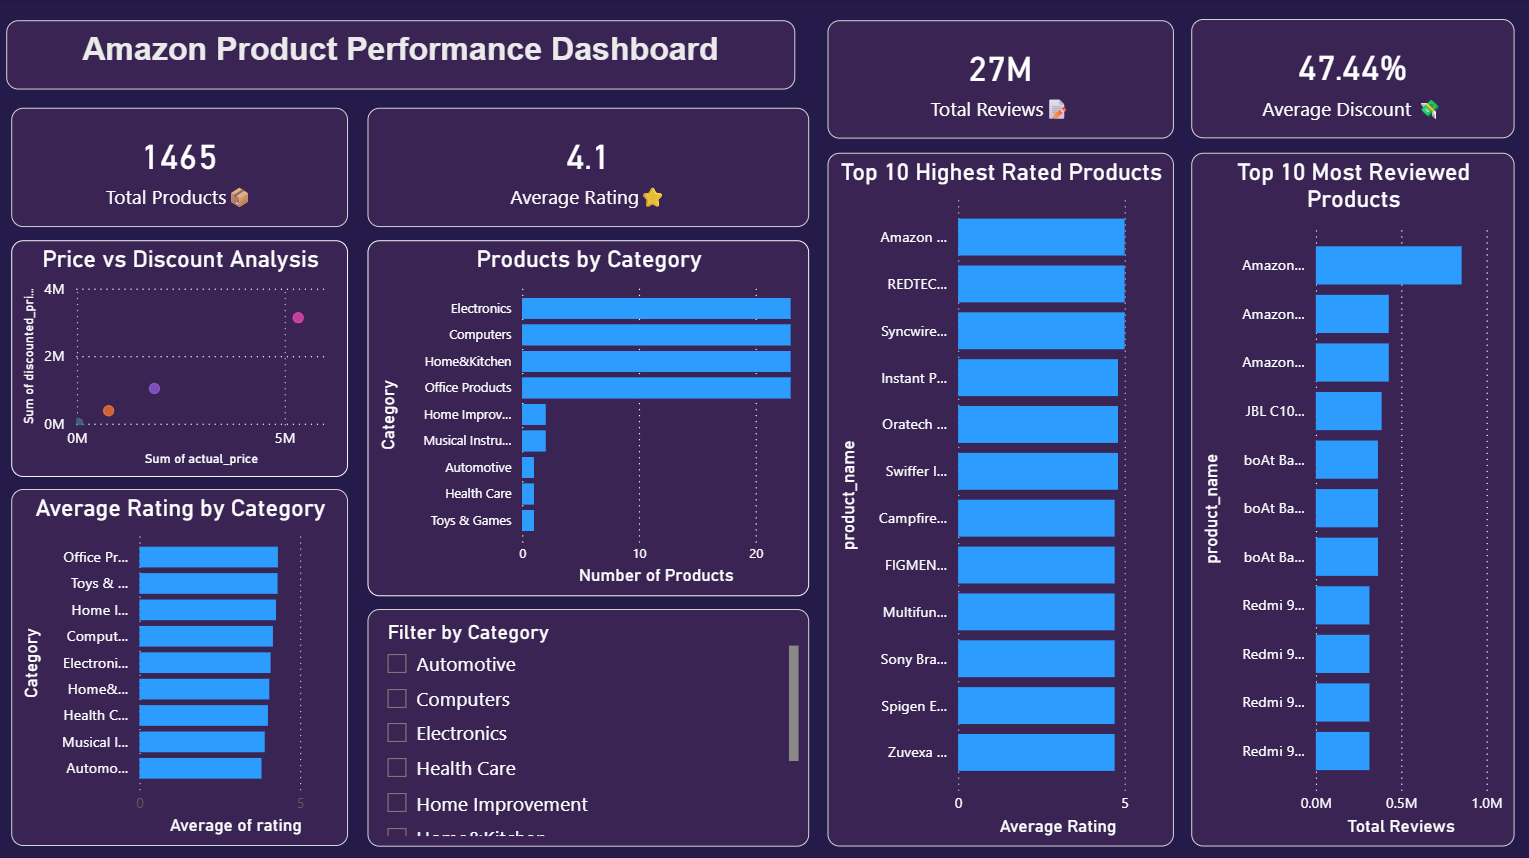

This screenshot's page, from the dashboard's own definition file:
{"tool":"powerbi","page":{"name":"Page 1","canvas":[1280,720],"ordinal":0},"visuals":[{"type":"card","fields":{"Values":["amazon_utf8 csv.Total Products"]},"box":[13.5,90.3,280,99.4],"z":0},{"type":"card","fields":{"Values":["amazon_utf8 csv.Total Reviews"]},"box":[692.2,18.1,287.9,98.2],"z":1000},{"type":"card","fields":{"Values":["amazon_utf8 csv.Average Rating"]},"box":[309.4,90.3,367,99.4],"z":2000},{"type":"card","fields":{"Values":["amazon_utf8 csv.Average Discount"]},"box":[994.8,16.9,268.7,99.4],"z":3000},{"type":"clusteredBarChart","title":"Products by Category","fields":{"Y":["CountNonNull(amazon_utf8 csv.product_id)"],"Category":["amazon_utf8 csv.Category_Display"]},"box":[309.4,201,367,295.8],"z":4000},{"type":"barChart","title":"Top 10 Highest Rated Products","fields":{"Category":["amazon_utf8 csv.product_name"],"Y":["amazon_utf8 csv.Average Rating"]},"box":[692.2,127.6,287.9,577],"z":5000},{"type":"barChart","title":"Top 10 Most Reviewed Products","fields":{"Category":["amazon_utf8 csv.product_name"],"Y":["Sum(amazon_utf8 csv.rating_count)"]},"box":[994.8,127.6,268.7,577],"z":6000},{"type":"scatterChart","title":"Price vs Discount Analysis","fields":{"X":["Sum(amazon_utf8 csv.actual_price)"],"Y":["Sum(amazon_utf8 csv.discounted_price)"],"Series":["amazon_utf8 csv.Category_Display"]},"box":[13.5,201,280,196.5],"z":7000},{"type":"slicer","fields":{"Values":["amazon_utf8 csv.Category_Display"]},"box":[309.4,507,367,197.6],"z":8000},{"type":"textbox","box":[9,18.1,656,57.6],"z":9000},{"type":"clusteredBarChart","title":"Average Rating by Category","fields":{"Y":["Avg(amazon_utf8 csv.rating)"],"Category":["amazon_utf8 csv.Category_Display"]},"box":[13.5,407.6,280,297],"z":10000}]}

Visuals, with their boxes in screenshot pixels (x1, y1, x2, y2), scaled from the page's 1280x720 canvas onto the 1529x858 screenshot:
card - amazon_utf8 csv.Total Products: bbox=[16, 108, 351, 226]
card - amazon_utf8 csv.Total Reviews: bbox=[827, 22, 1171, 139]
card - amazon_utf8 csv.Average Rating: bbox=[370, 108, 808, 226]
card - amazon_utf8 csv.Average Discount: bbox=[1188, 20, 1509, 139]
"Products by Category" clusteredBarChart: bbox=[370, 240, 808, 592]
"Top 10 Highest Rated Products" barChart: bbox=[827, 152, 1171, 840]
"Top 10 Most Reviewed Products" barChart: bbox=[1188, 152, 1509, 840]
"Price vs Discount Analysis" scatterChart: bbox=[16, 240, 351, 474]
slicer - amazon_utf8 csv.Category_Display: bbox=[370, 604, 808, 840]
textbox: bbox=[11, 22, 794, 90]
"Average Rating by Category" clusteredBarChart: bbox=[16, 486, 351, 840]
